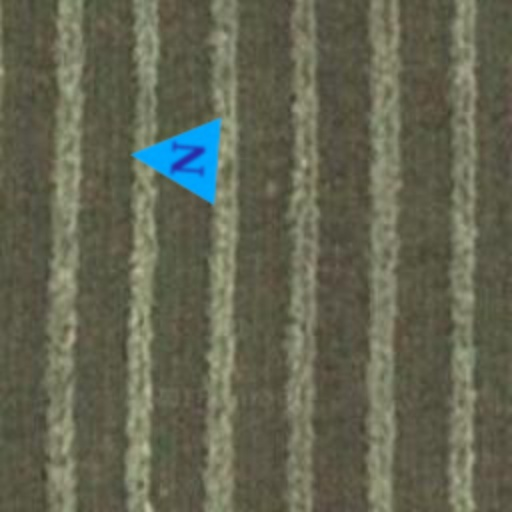triangle: (126, 110, 222, 206)
